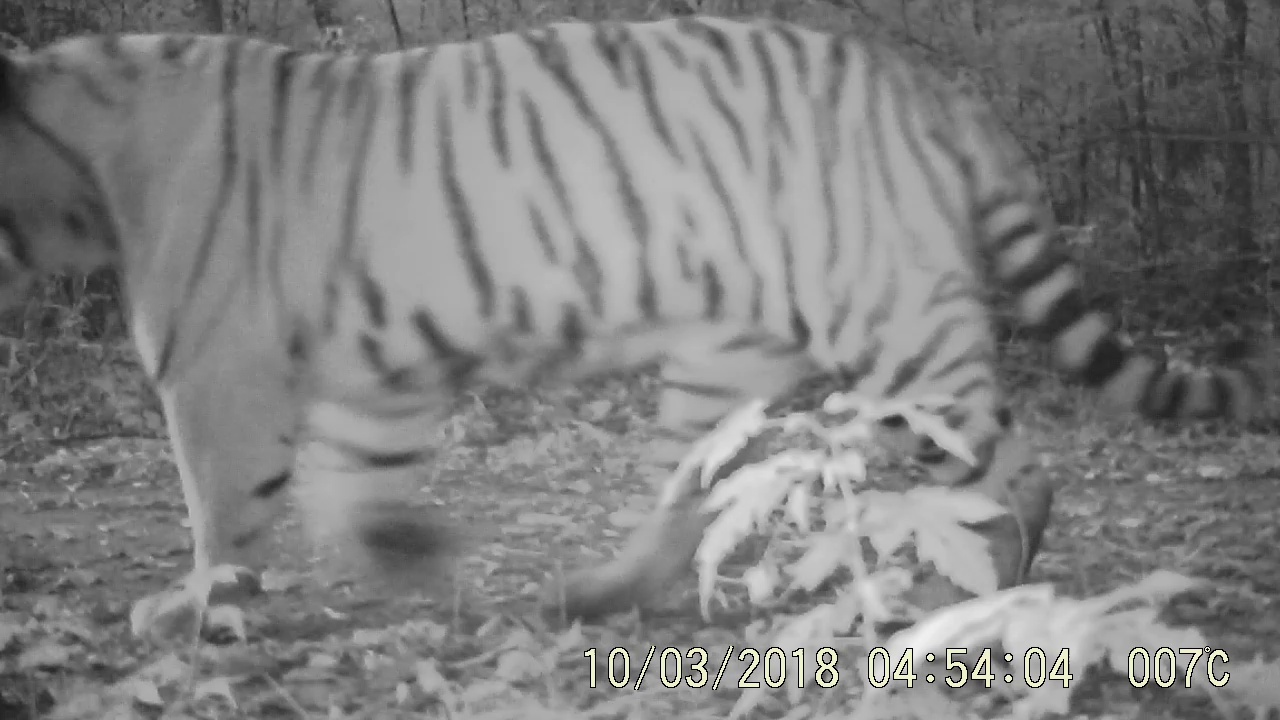Tiger: (4, 16, 1280, 622)
